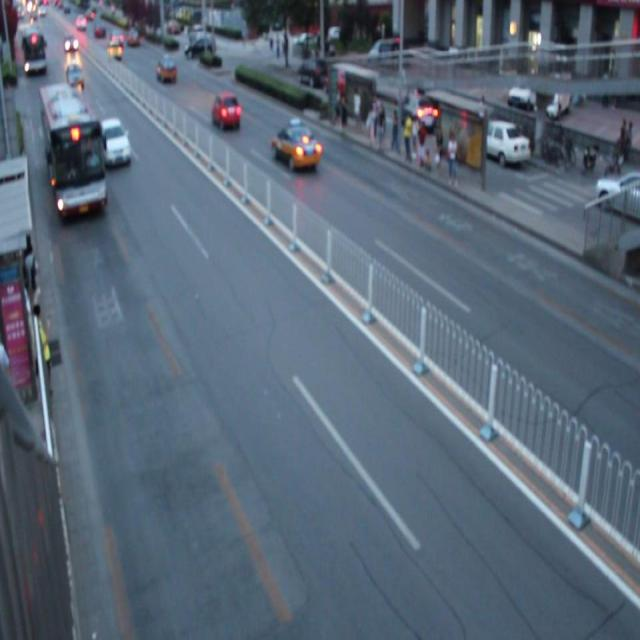car: (272, 123, 322, 172), (99, 116, 132, 170), (212, 92, 242, 132), (155, 55, 178, 86)
van: (37, 84, 107, 212)
